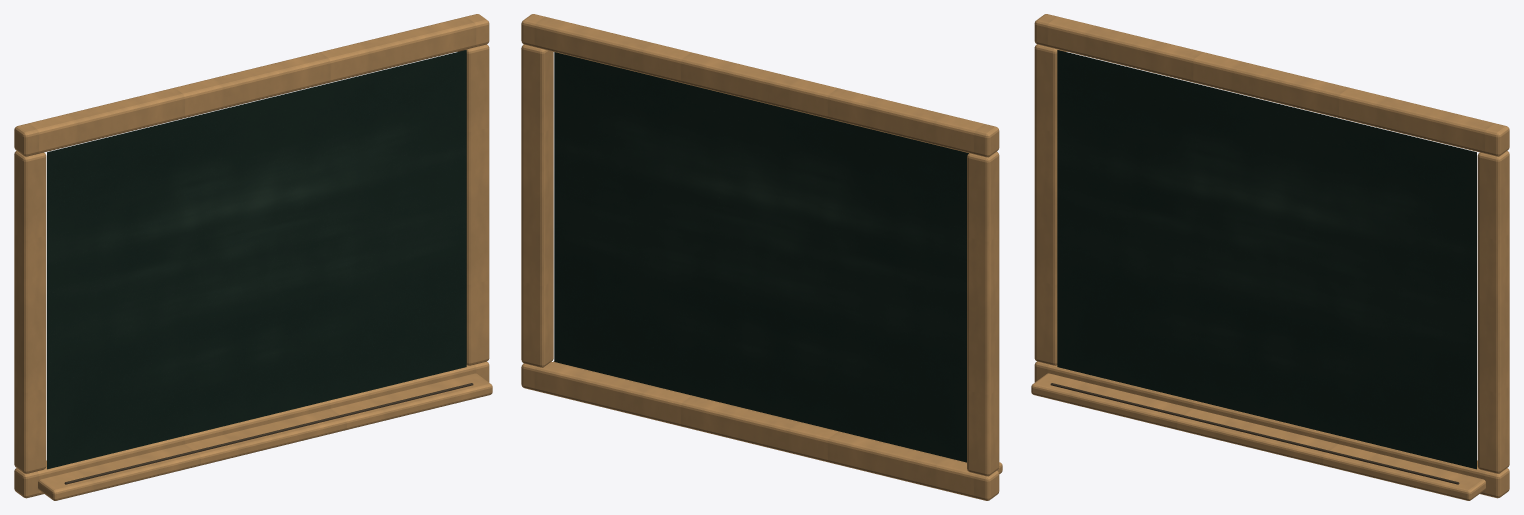
The model's file is blackboard.glb.
The picture shows the model from 3 angles, left to right: view 1: azimuth 30°, elevation 25°; view 2: azimuth 150°, elevation 25°; view 3: azimuth 330°, elevation 25°; orthographic projection.
Parts seen in each view (by area): view 1: BoardSurface, WoodFrame_Top, ChalkTray, WoodFrame_Left, WoodFrame_Right, WoodFrame_Bottom, ChalkTray_Groove; view 2: BoardSurface, WoodFrame_Top, WoodFrame_Bottom, WoodFrame_Left, WoodFrame_Right, ChalkTray; view 3: BoardSurface, WoodFrame_Top, ChalkTray, WoodFrame_Right, WoodFrame_Left, WoodFrame_Bottom, ChalkTray_Groove.
Part boxes in pixels (left/top/right/bottom): BoardSurface: left=47, top=50, right=466, bottom=469; WoodFrame_Top: left=14, top=14, right=489, bottom=156; ChalkTray: left=38, top=373, right=492, bottom=500; WoodFrame_Left: left=14, top=151, right=46, bottom=473; WoodFrame_Right: left=457, top=44, right=489, bottom=365; WoodFrame_Bottom: left=14, top=361, right=489, bottom=498; ChalkTray_Groove: left=64, top=383, right=473, bottom=484; BoardSurface: left=554, top=52, right=968, bottom=462; WoodFrame_Top: left=521, top=14, right=999, bottom=157; WoodFrame_Bottom: left=521, top=361, right=999, bottom=500; WoodFrame_Left: left=967, top=151, right=999, bottom=476; WoodFrame_Right: left=521, top=44, right=553, bottom=367; ChalkTray: left=553, top=361, right=1002, bottom=473; BoardSurface: left=1057, top=50, right=1476, bottom=469; WoodFrame_Top: left=1034, top=14, right=1509, bottom=156; ChalkTray: left=1031, top=373, right=1485, bottom=500; WoodFrame_Right: left=1477, top=151, right=1509, bottom=473; WoodFrame_Left: left=1034, top=44, right=1066, bottom=365; WoodFrame_Bottom: left=1034, top=361, right=1509, bottom=498; ChalkTray_Groove: left=1050, top=383, right=1459, bottom=484.
Size of the model in its own units: 0.8 by 0.6 by 0.083.
Materials: 4 (2 with a texture image).
